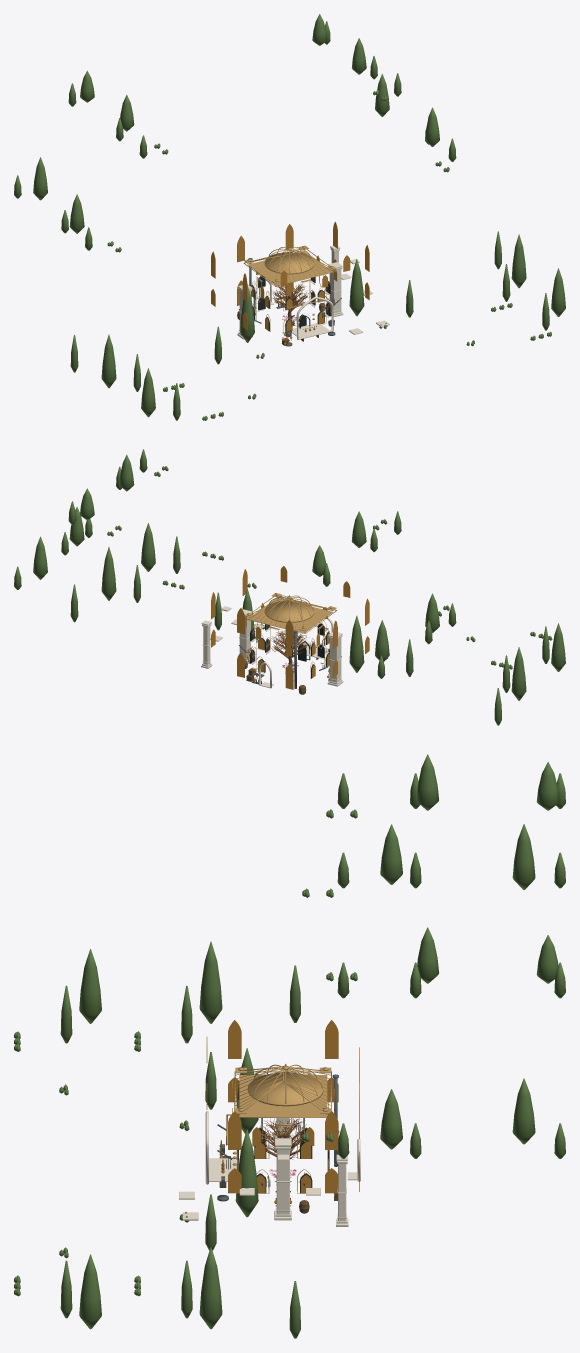
File: Catalog-16.glb
3 views of the same model, one above another, from view 1: azimuth 30°, elevation 25°; view 2: azimuth 150°, elevation 25°; view 3: azimuth 270°, elevation 25° (orthographic). The views are drawn at different scales.
Visible parts, largest first — view 1: Moss Green Leaves, Aged Gold, Pale Carved Stone (×2), Amber Window Glass, Recess Shadow; view 2: Moss Green Leaves, Aged Gold, Pale Carved Stone (×2), Amber Window Glass, Recess Shadow, Patinated Iron; view 3: Moss Green Leaves, Aged Gold, Pale Carved Stone (×2), Amber Window Glass.
Boxes of the visible parts, x1,y1,x2,y2 form: Moss Green Leaves: [14, 14, 565, 420]; Aged Gold: [243, 245, 336, 333]; Pale Carved Stone (×2): [237, 245, 389, 339]; Amber Window Glass: [211, 221, 369, 330]; Recess Shadow: [251, 275, 330, 331]; Moss Green Leaves: [14, 449, 565, 725]; Aged Gold: [245, 593, 336, 678]; Pale Carved Stone (×2): [201, 606, 343, 688]; Amber Window Glass: [211, 566, 369, 689]; Recess Shadow: [250, 623, 329, 678]; Patinated Iron: [239, 630, 341, 694]; Moss Green Leaves: [14, 754, 565, 1338]; Aged Gold: [226, 1063, 331, 1193]; Pale Carved Stone (×2): [179, 1071, 360, 1226]; Amber Window Glass: [206, 1020, 359, 1193].
Size of the model in its own units: 62.96 by 31.38 by 45.84.
